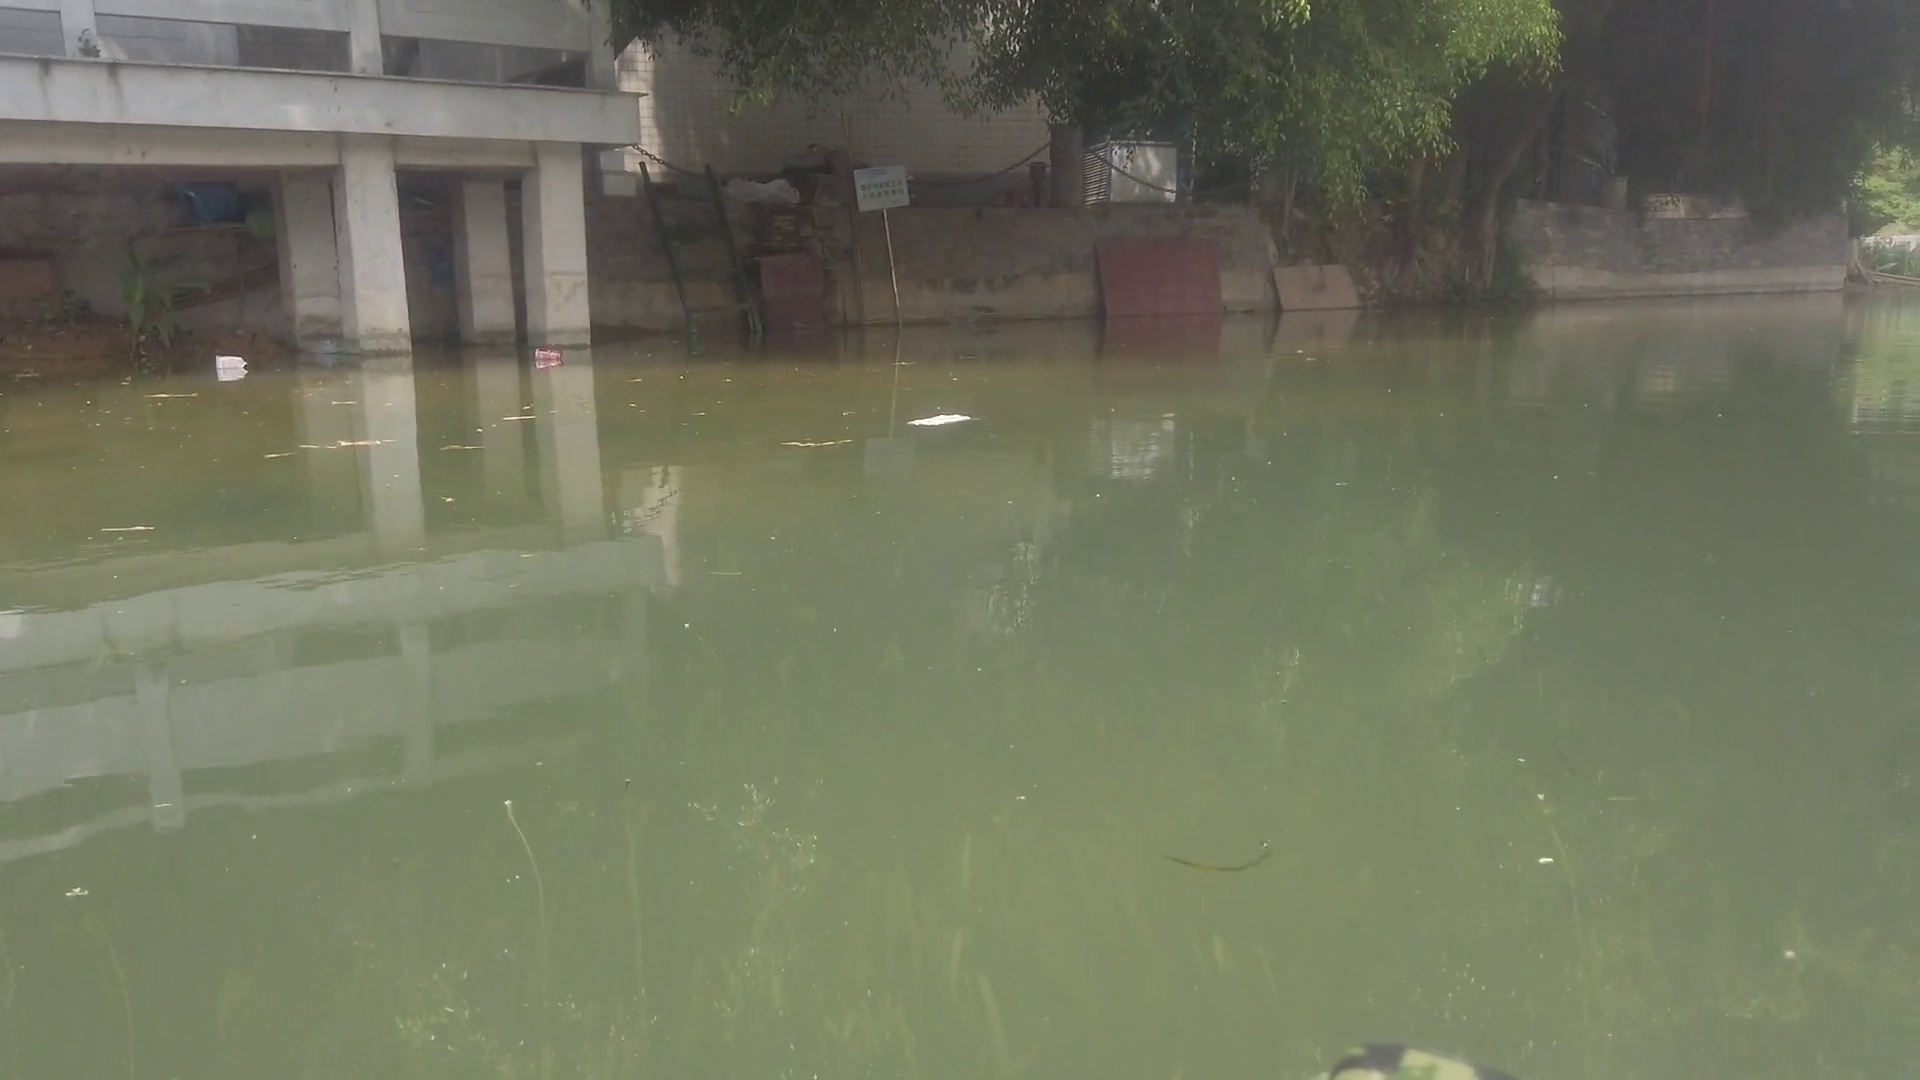bottle: (535, 342, 564, 367)
carton: (208, 348, 256, 373)
paper: (909, 405, 978, 433)
